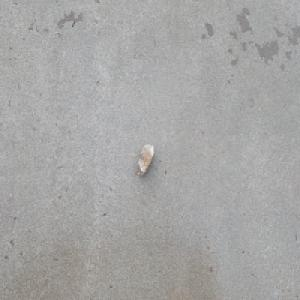Rock: (137, 143, 154, 177)
